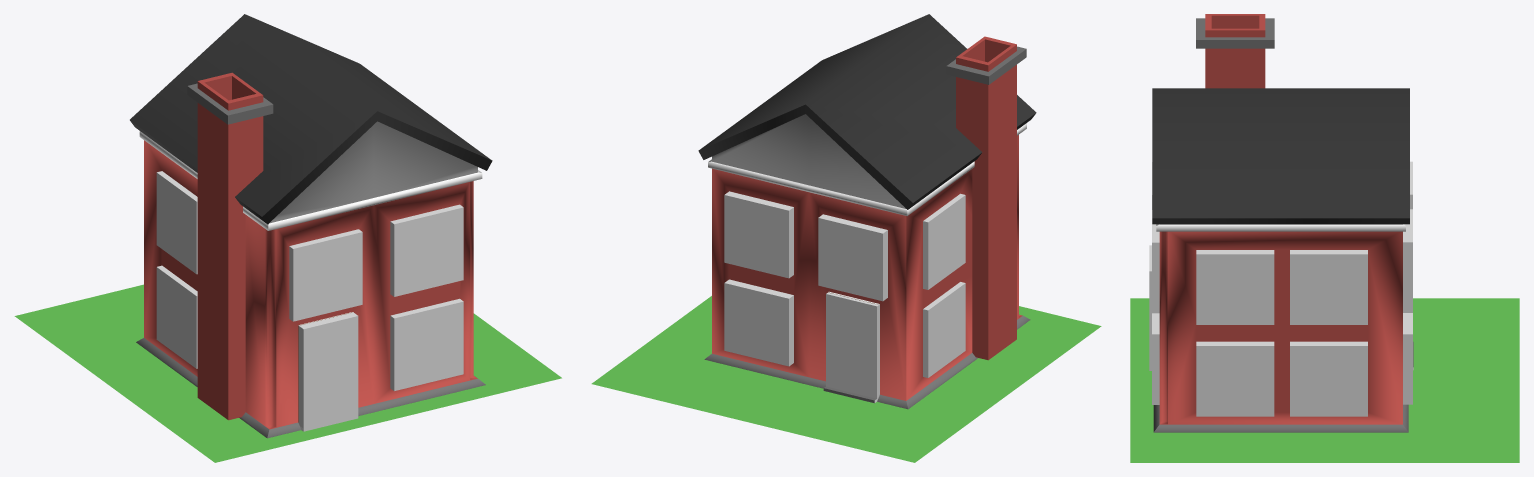
Rendered from 1x1 House.fbx.
3 views of the same model, side by side, from view 1: azimuth 30°, elevation 25°; view 2: azimuth 150°, elevation 25°; view 3: azimuth 270°, elevation 25° (orthographic). The views are drawn at different scales.
Parts seen in each view (by area): view 1: 1x1 House, 1x1 House - Door Cutter.001, 1x1 House - Windows Cutter.004, 1x1 House - Windows Cutter.003, 1x1 House - Windows Cutter.005, 1x1 House - Windows Cutter.006, 1x1 House - Windows Cutter.007; view 2: 1x1 House, 1x1 House - Door Cutter, 1x1 House - Windows Cutter.001, 1x1 House - Windows Cutter.002, 1x1 House - Windows Cutter, 1x1 House - Windows Cutter.006, 1x1 House - Windows Cutter.007; view 3: 1x1 House, 1x1 House - Windows Cutter.011, 1x1 House - Windows Cutter.009, 1x1 House - Windows Cutter.010, 1x1 House - Windows Cutter.008, 1x1 House - Windows Cutter.002, 1x1 House - Windows Cutter.001, 1x1 House - Windows Cutter.005, 1x1 House - Windows Cutter.004.
Boxes of the visible parts, <box> form: 1x1 House: <box>14,14,561,462</box>; 1x1 House - Door Cutter.001: <box>298,312,358,431</box>; 1x1 House - Windows Cutter.004: <box>390,204,463,296</box>; 1x1 House - Windows Cutter.003: <box>289,229,362,321</box>; 1x1 House - Windows Cutter.005: <box>390,298,463,390</box>; 1x1 House - Windows Cutter.006: <box>156,171,197,274</box>; 1x1 House - Windows Cutter.007: <box>156,265,197,368</box>; 1x1 House: <box>591,14,1101,462</box>; 1x1 House - Door Cutter: <box>826,292,879,401</box>; 1x1 House - Windows Cutter.001: <box>724,191,793,278</box>; 1x1 House - Windows Cutter.002: <box>724,279,793,366</box>; 1x1 House - Windows Cutter: <box>818,214,887,301</box>; 1x1 House - Windows Cutter.006: <box>923,193,965,289</box>; 1x1 House - Windows Cutter.007: <box>923,282,965,377</box>; 1x1 House: <box>1130,14,1519,462</box>; 1x1 House - Windows Cutter.011: <box>1196,341,1274,416</box>; 1x1 House - Windows Cutter.009: <box>1290,341,1367,416</box>; 1x1 House - Windows Cutter.010: <box>1196,250,1274,324</box>; 1x1 House - Windows Cutter.008: <box>1290,250,1367,324</box>; 1x1 House - Windows Cutter.002: <box>1403,313,1412,404</box>; 1x1 House - Windows Cutter.001: <box>1403,209,1412,312</box>; 1x1 House - Windows Cutter.005: <box>1152,313,1159,404</box>; 1x1 House - Windows Cutter.004: <box>1152,210,1159,313</box>.
Bounding box in the file's own units: 1 × 0.8751 × 1.
